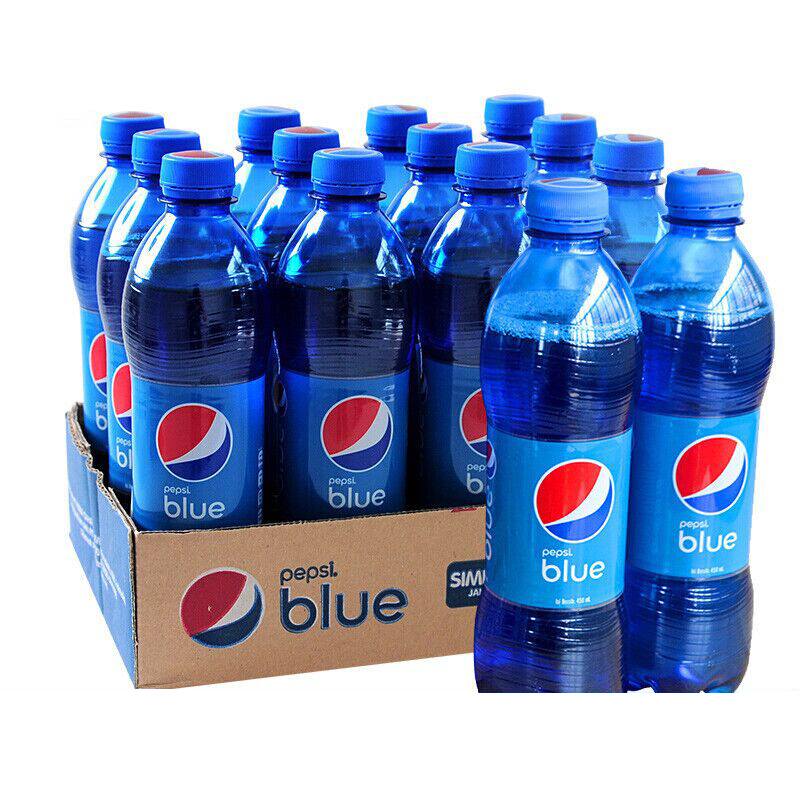pepsi: (153, 393, 235, 479), (175, 568, 262, 647), (531, 456, 612, 539), (153, 403, 235, 479), (676, 433, 746, 511), (320, 393, 390, 469), (458, 385, 492, 460), (86, 329, 108, 399), (114, 358, 131, 432), (110, 358, 127, 432)
